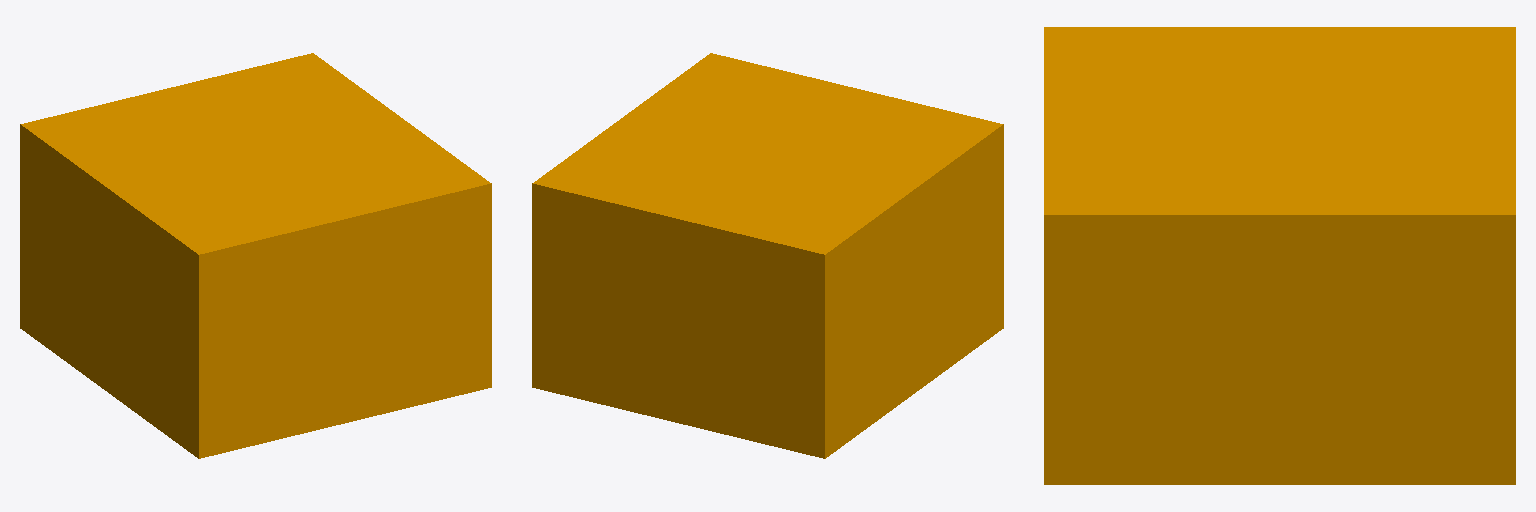
URDF robot description (2x2):
<?xml version='1.0' encoding='UTF-8'?>
<robot name="2x2">
  <link name="base_link">
    <inertial>
      <origin xyz="0.0 0.0 0.0" rpy="0.0 0.0 0.0"/>
      <mass value="0.01"/>
      <inertia ixx="0.1" ixy="0.0" ixz="0.0" iyy="0.1" iyz="0.0" izz="0.1"/>
    </inertial>
    <visual>
      <geometry>
        <box size="0.018 0.019 0.012"/>
      </geometry>
      <material name=""/>
      <origin xyz="0.0 0.0 0.0" rpy="0.0 0.0 0.0"/>
    </visual>
    <collision>
      <geometry>
        <box size="0.018 0.019 0.012"/>
      </geometry>
      <origin xyz="0.0 0.0 0.0" rpy="0.0 0.0 0.0"/>
    </collision>
  </link>
  <material name="">
    <color rgba="1. 1. 1. 1."/>
  </material>
  <contact>
    <lateral_friction value="1.0"/>
    <rolling_friction value="0.0"/>
    <contact_cfm value="0.0"/>
    <contact_erp value="1.0"/>
  </contact>
</robot>

--- Render facts (derived) ---
Views: 3 orthographic renders of the robot side by side, from view 1: azimuth 30°, elevation 25°; view 2: azimuth 150°, elevation 25°; view 3: azimuth 270°, elevation 25°.
Robot: 2x2 — 1 links, 0 joints (none); root link base_link; default pose: every joint at zero.
Visible links, largest first — view 1: base_link; view 2: base_link; view 3: base_link.
Link boxes in pixels (bbox=[...]): base_link: bbox=[20, 53, 491, 458]; base_link: bbox=[532, 53, 1003, 458]; base_link: bbox=[1044, 27, 1515, 484].
Size in the robot's own frame: 0.018 by 0.019 by 0.012 metres.
Geometry: primitives only (box / cylinder / sphere), no mesh files.